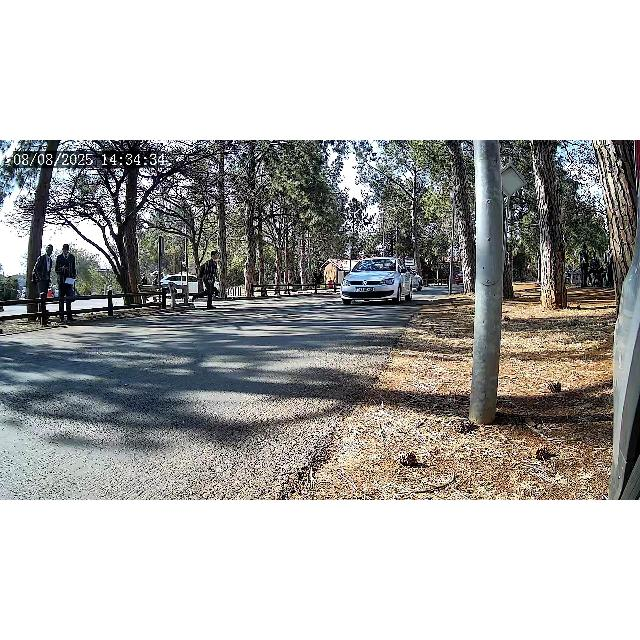car: (340, 256, 412, 304)
plate: (355, 287, 375, 293)
